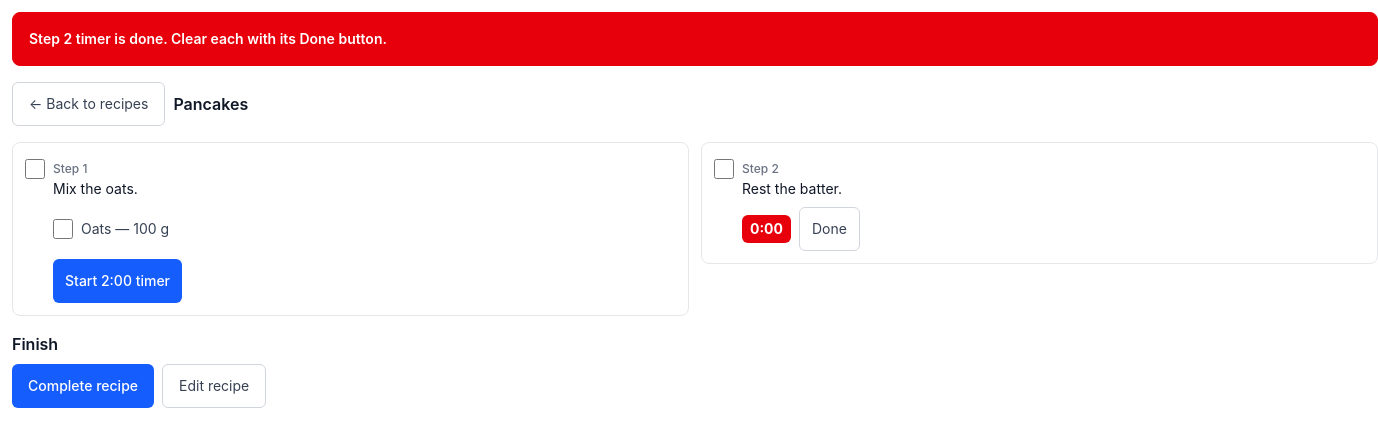
Test: RecipeCook › expiry flash shows until Done clears it (and only Done)
expect the message with test id "cook-timer-expired" shows "Step 2 timer is done.": met, box [29,30,168,47]
expect the message "Step 2 timer is done. Clear each with its Done button." is shown: met, box [12,12,1377,66]
Click the button with aria-label "Timer done for step 2" at x=829, y=229, box [799,207,860,251]
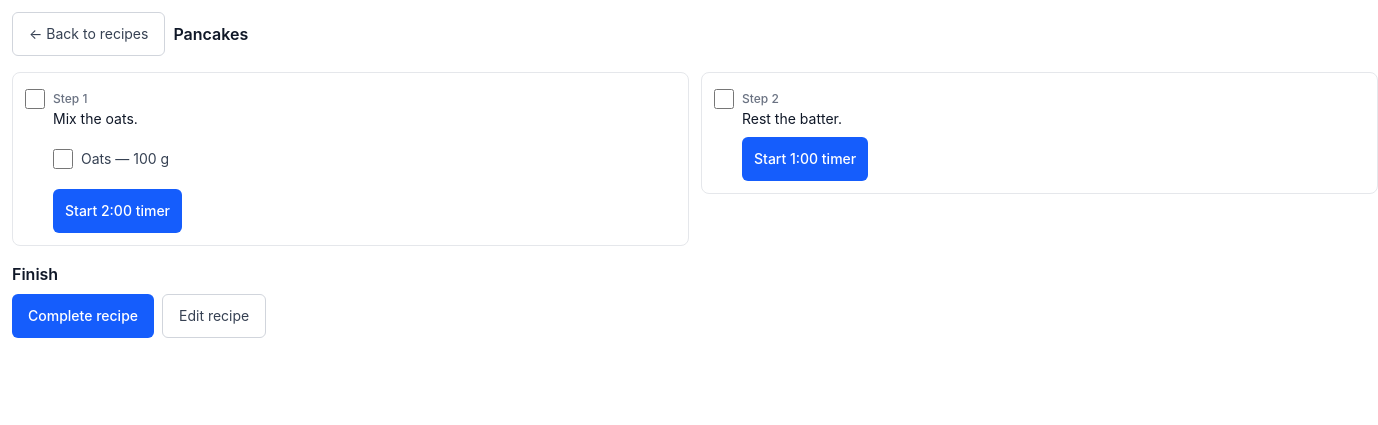
expect the message with test id "cook-timer-expired" is gone: met
expect the button with aria-label "Start step 2 timer" is shown: met, box [742,137,868,181]
